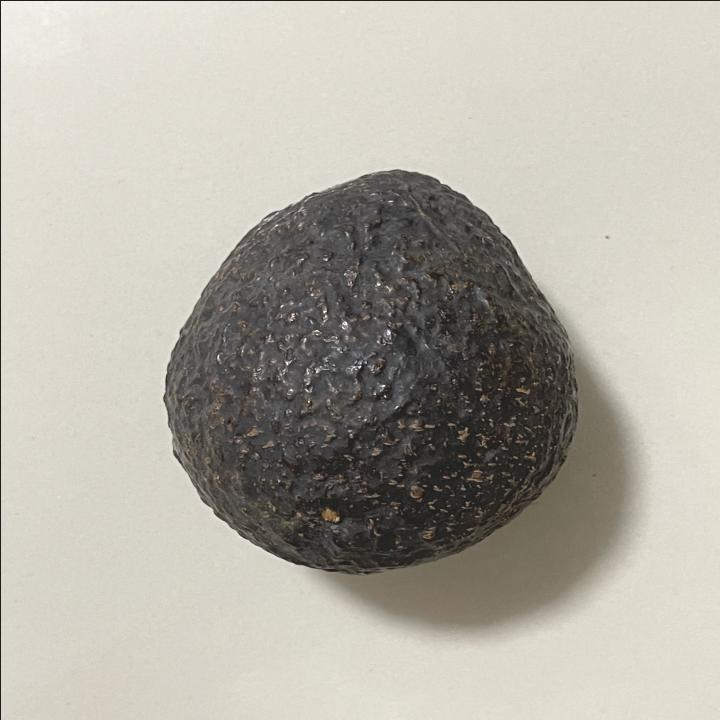Level3: (151, 159, 587, 582)
